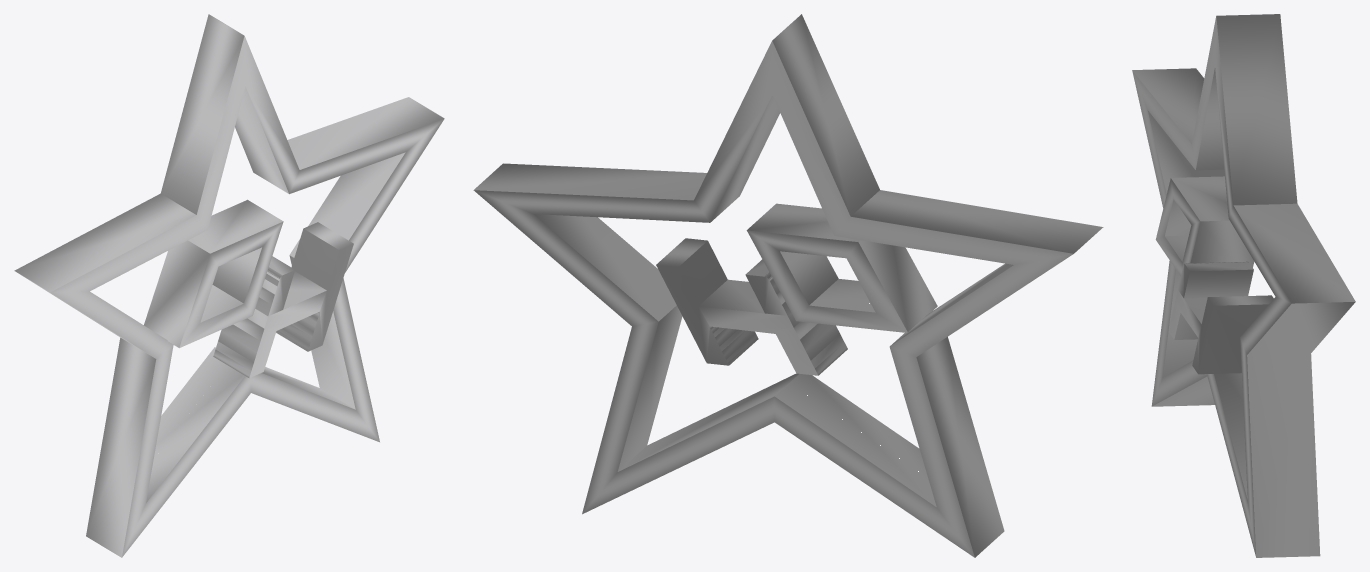
File: oh_bl_chrome.glb
3 renders of one model, left to right at view 1: azimuth 30°, elevation 25°; view 2: azimuth 150°, elevation 25°; view 3: azimuth 270°, elevation 25°, orthographic. The views are drawn at different scales.
Visible parts, largest first — view 1: Curve.007, Curve.005, Curve.006; view 2: Curve.007, Curve.005, Curve.006; view 3: Curve.007, Curve.006, Curve.005.
Part boxes in pixels (x1,y1,x2,y2): Curve.007: (14, 14, 444, 557); Curve.005: (144, 199, 283, 348); Curve.006: (213, 222, 353, 378); Curve.007: (473, 14, 1103, 557); Curve.005: (746, 203, 937, 332); Curve.006: (656, 238, 847, 375); Curve.007: (1132, 14, 1355, 557); Curve.006: (1168, 261, 1273, 374); Curve.005: (1155, 176, 1254, 276).
Bounding box in the file's own units: 0.1312 × 0.1212 × 0.0525.
Materials: 1 (1 with a texture image).
